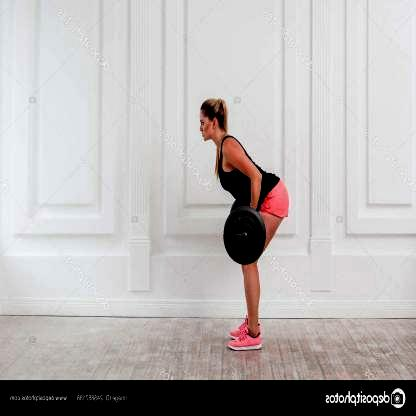Barbell: (231, 231, 242, 244)
